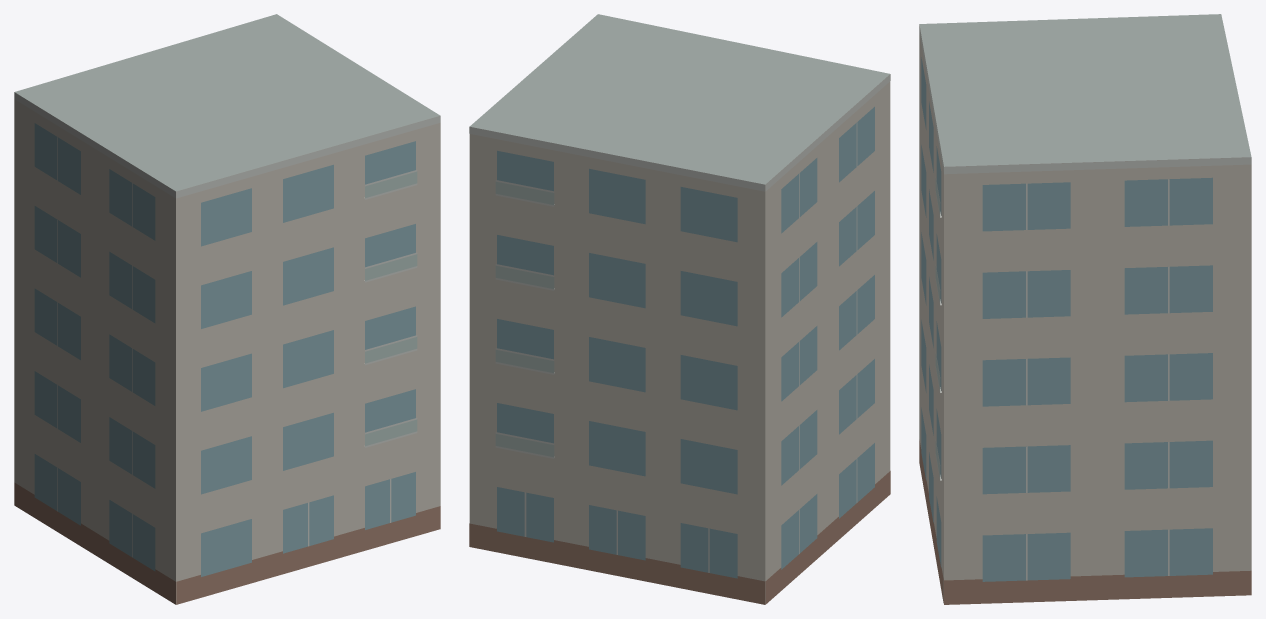
Rendered from survey-upis-32652714.glb.
The picture shows the model from 3 angles, left to right: view 1: azimuth 30°, elevation 25°; view 2: azimuth 150°, elevation 25°; view 3: azimuth 270°, elevation 25°; orthographic projection. The views are drawn at different scales.
Visible parts, largest first — view 1: survey-upis-32652714.tmp; view 2: survey-upis-32652714.tmp; view 3: survey-upis-32652714.tmp.
Boxes of the visible parts, x1=… form: survey-upis-32652714.tmp: x1=14, y1=14, x2=440, y2=604; survey-upis-32652714.tmp: x1=469, y1=14, x2=890, y2=604; survey-upis-32652714.tmp: x1=919, y1=14, x2=1251, y2=604.
Bounding box in the file's own units: 10.78 × 14.4 × 9.91.
